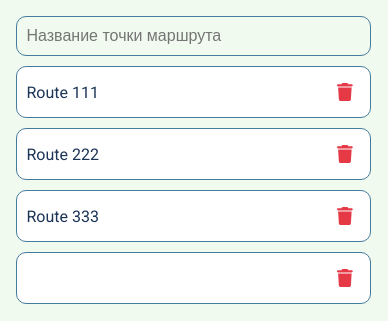
Test: Sidebar component tests › Route point removed successfully
The width and height of the screenshot is (388, 321).
Click the 1st button with test id "delete-point-btn": [344, 92] box [330,77,360,107]
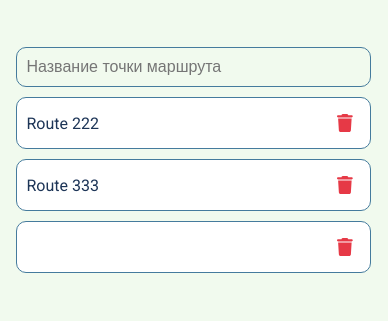
Expected: the text with test id "route-point-title" reads "Route 222", [26,114,99,132]
Expected: the button with test id "route-point-title" no longer shows "Route 111"
